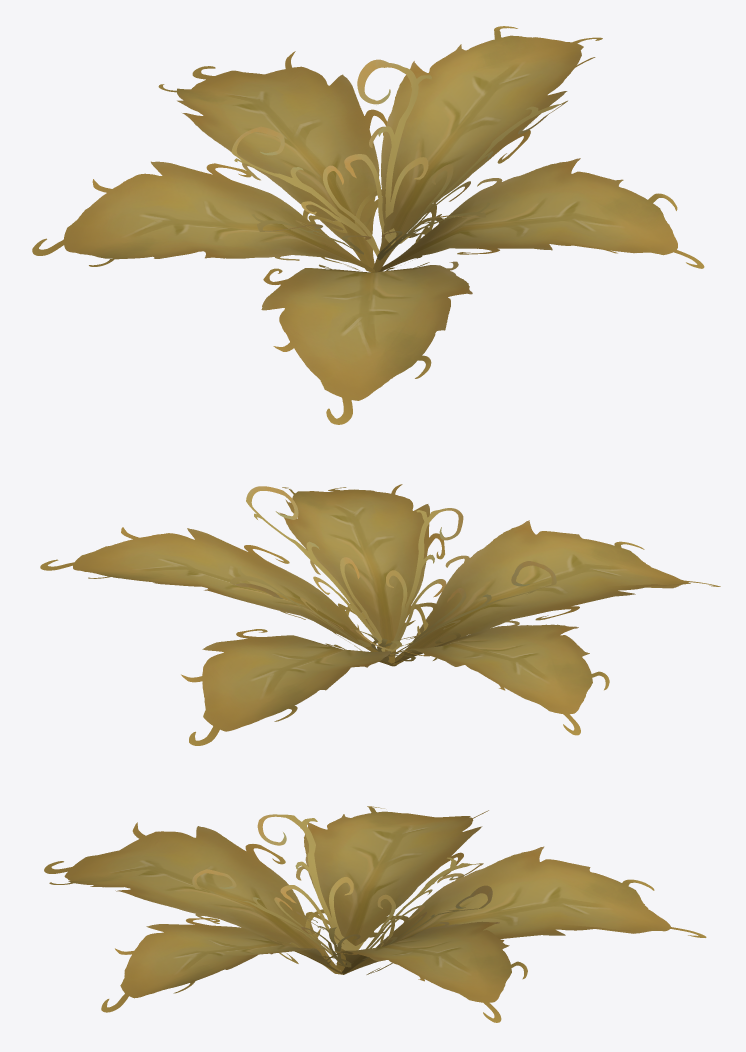
File: fern_1.fbx
3 renders of one model, top to bottom at view 1: azimuth 30°, elevation 25°; view 2: azimuth 150°, elevation 25°; view 3: azimuth 270°, elevation 25°, orthographic. The views are drawn at different scales.
Parts seen in each view (by area): view 1: pPlane8; view 2: pPlane8; view 3: pPlane8.
Part boxes in pixels (bbox=[...]): pPlane8: bbox=[32, 26, 704, 424]; pPlane8: bbox=[40, 484, 720, 745]; pPlane8: bbox=[44, 806, 706, 1022].
Bounding box in the file's own units: 36.26 × 8.27 × 39.93.
